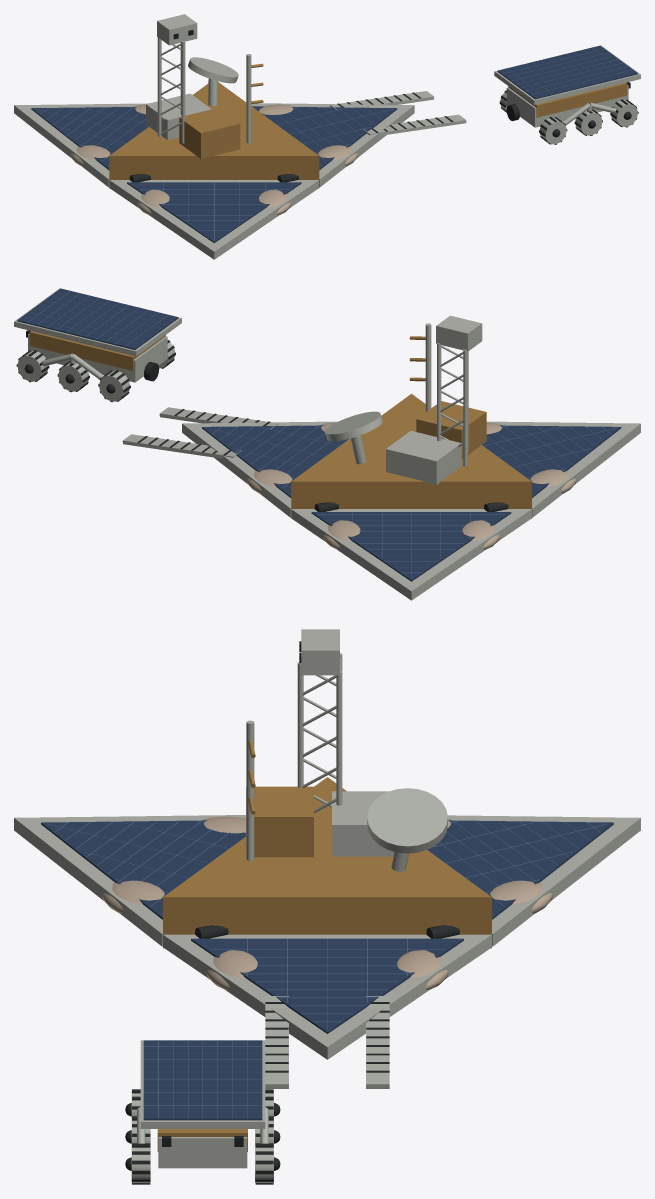
The model's file is pathfinder.glb.
3 renders of one model, top to bottom at view 1: azimuth 30°, elevation 25°; view 2: azimuth 150°, elevation 25°; view 3: azimuth 270°, elevation 25°, orthographic. The views are drawn at different scales.
Visible parts, largest first — view 1: Solar cell laminate (×3), Central instrument deck, Aluminum petal (×3), Solar array, Insulated instrument housing, Retracted airbag fabric (×4), Sojourner deployment ramp (×2), Radio electronics, Sojourner wheel (×3), Gold thermal blanket, Electronics chassis, Solar panel frame (+4 smaller); view 2: Solar cell laminate (×3), Central instrument deck, Aluminum petal (×3), Solar array, Radio electronics, Retracted airbag fabric (×4), Insulated instrument housing, Sojourner deployment ramp (×2), Sojourner wheel (×3), Gold thermal blanket, Electronics chassis, Imager for Mars Pathfinder (+4 smaller); view 3: Solar cell laminate (×3), Central instrument deck, Aluminum petal (×3), Solar array, Retracted airbag fabric (×4), Insulated instrument housing, High-gain antenna, Sojourner deployment ramp (×2), Radio electronics, Electronics chassis, Imager for Mars Pathfinder, Solar panel frame (+2 smaller).
Boxes of the visible parts, x1,y1,x2,y2 form: Solar cell laminate (×3): [31, 106, 397, 243]; Central instrument deck: [109, 82, 319, 188]; Aluminum petal (×3): [14, 103, 414, 259]; Solar array: [497, 45, 637, 99]; Insulated instrument housing: [179, 107, 240, 158]; Retracted airbag fabric (×4): [70, 145, 358, 215]; Sojourner deployment ramp (×2): [330, 91, 466, 135]; Radio electronics: [146, 93, 211, 139]; Sojourner wheel (×3): [540, 100, 637, 144]; Gold thermal blanket: [508, 82, 627, 117]; Electronics chassis: [506, 85, 628, 127]; Solar panel frame: [494, 45, 640, 104]; Solar cell laminate (×3): [202, 425, 621, 581]; Central instrument deck: [291, 394, 531, 518]; Aluminum petal (×3): [182, 421, 640, 600]; Solar array: [17, 288, 178, 349]; Radio electronics: [386, 431, 461, 484]; Retracted airbag fabric (×4): [246, 469, 576, 549]; Insulated instrument housing: [416, 401, 486, 459]; Sojourner deployment ramp (×2): [122, 407, 278, 458]; Sojourner wheel (×3): [17, 351, 129, 401]; Gold thermal blanket: [29, 331, 165, 370]; Electronics chassis: [28, 333, 167, 382]; Imager for Mars Pathfinder: [436, 315, 482, 351]; Solar cell laminate (×3): [41, 820, 613, 1033]; Central instrument deck: [163, 777, 491, 948]; Aluminum petal (×3): [14, 815, 640, 1059]; Solar array: [143, 1040, 262, 1120]; Retracted airbag fabric (×4): [102, 880, 552, 989]; Insulated instrument housing: [246, 786, 313, 857]; High-gain antenna: [367, 788, 447, 853]; Sojourner deployment ramp (×2): [265, 996, 389, 1088]; Radio electronics: [332, 791, 394, 856]; Electronics chassis: [158, 1137, 247, 1168]; Imager for Mars Pathfinder: [301, 629, 339, 675]; Solar panel frame: [140, 1040, 265, 1128].
Size of the model in its own units: 2.88 by 0.91 by 2.11.
